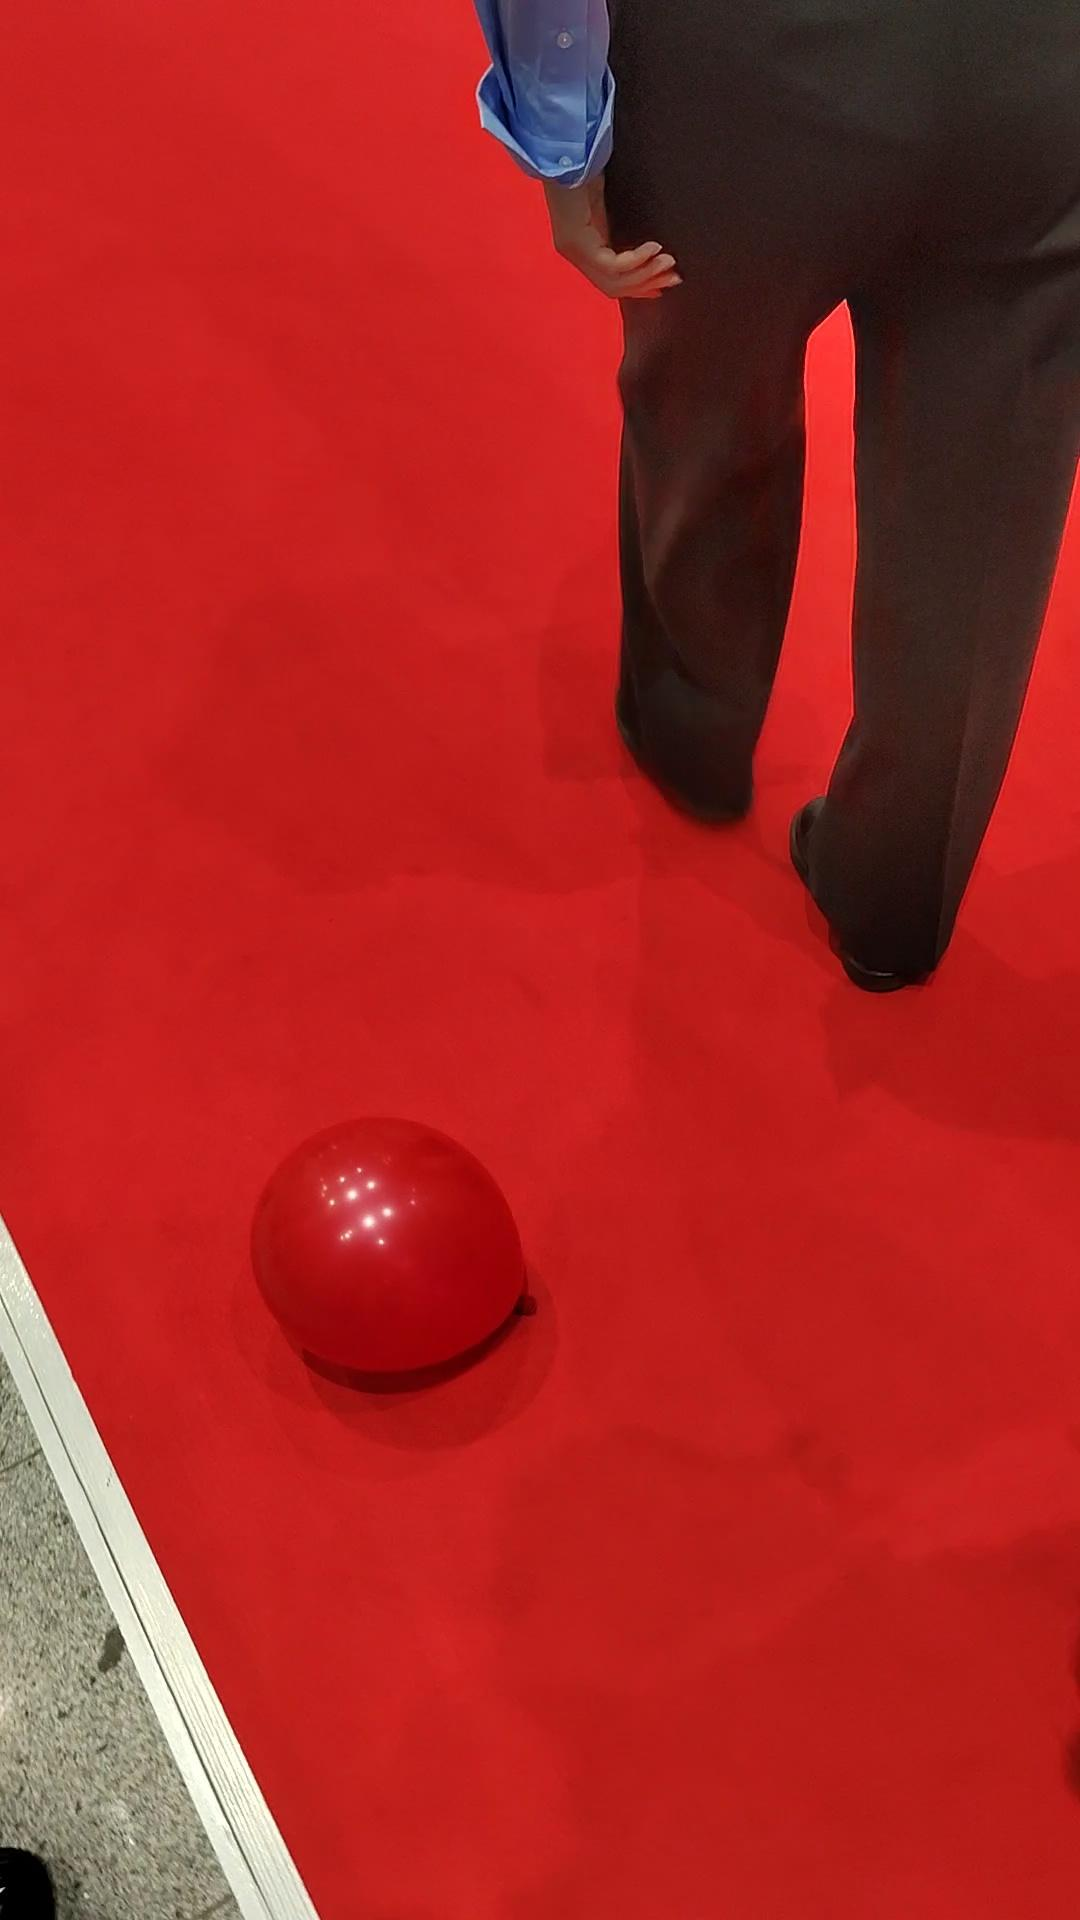red: (248, 1114, 526, 1375)
